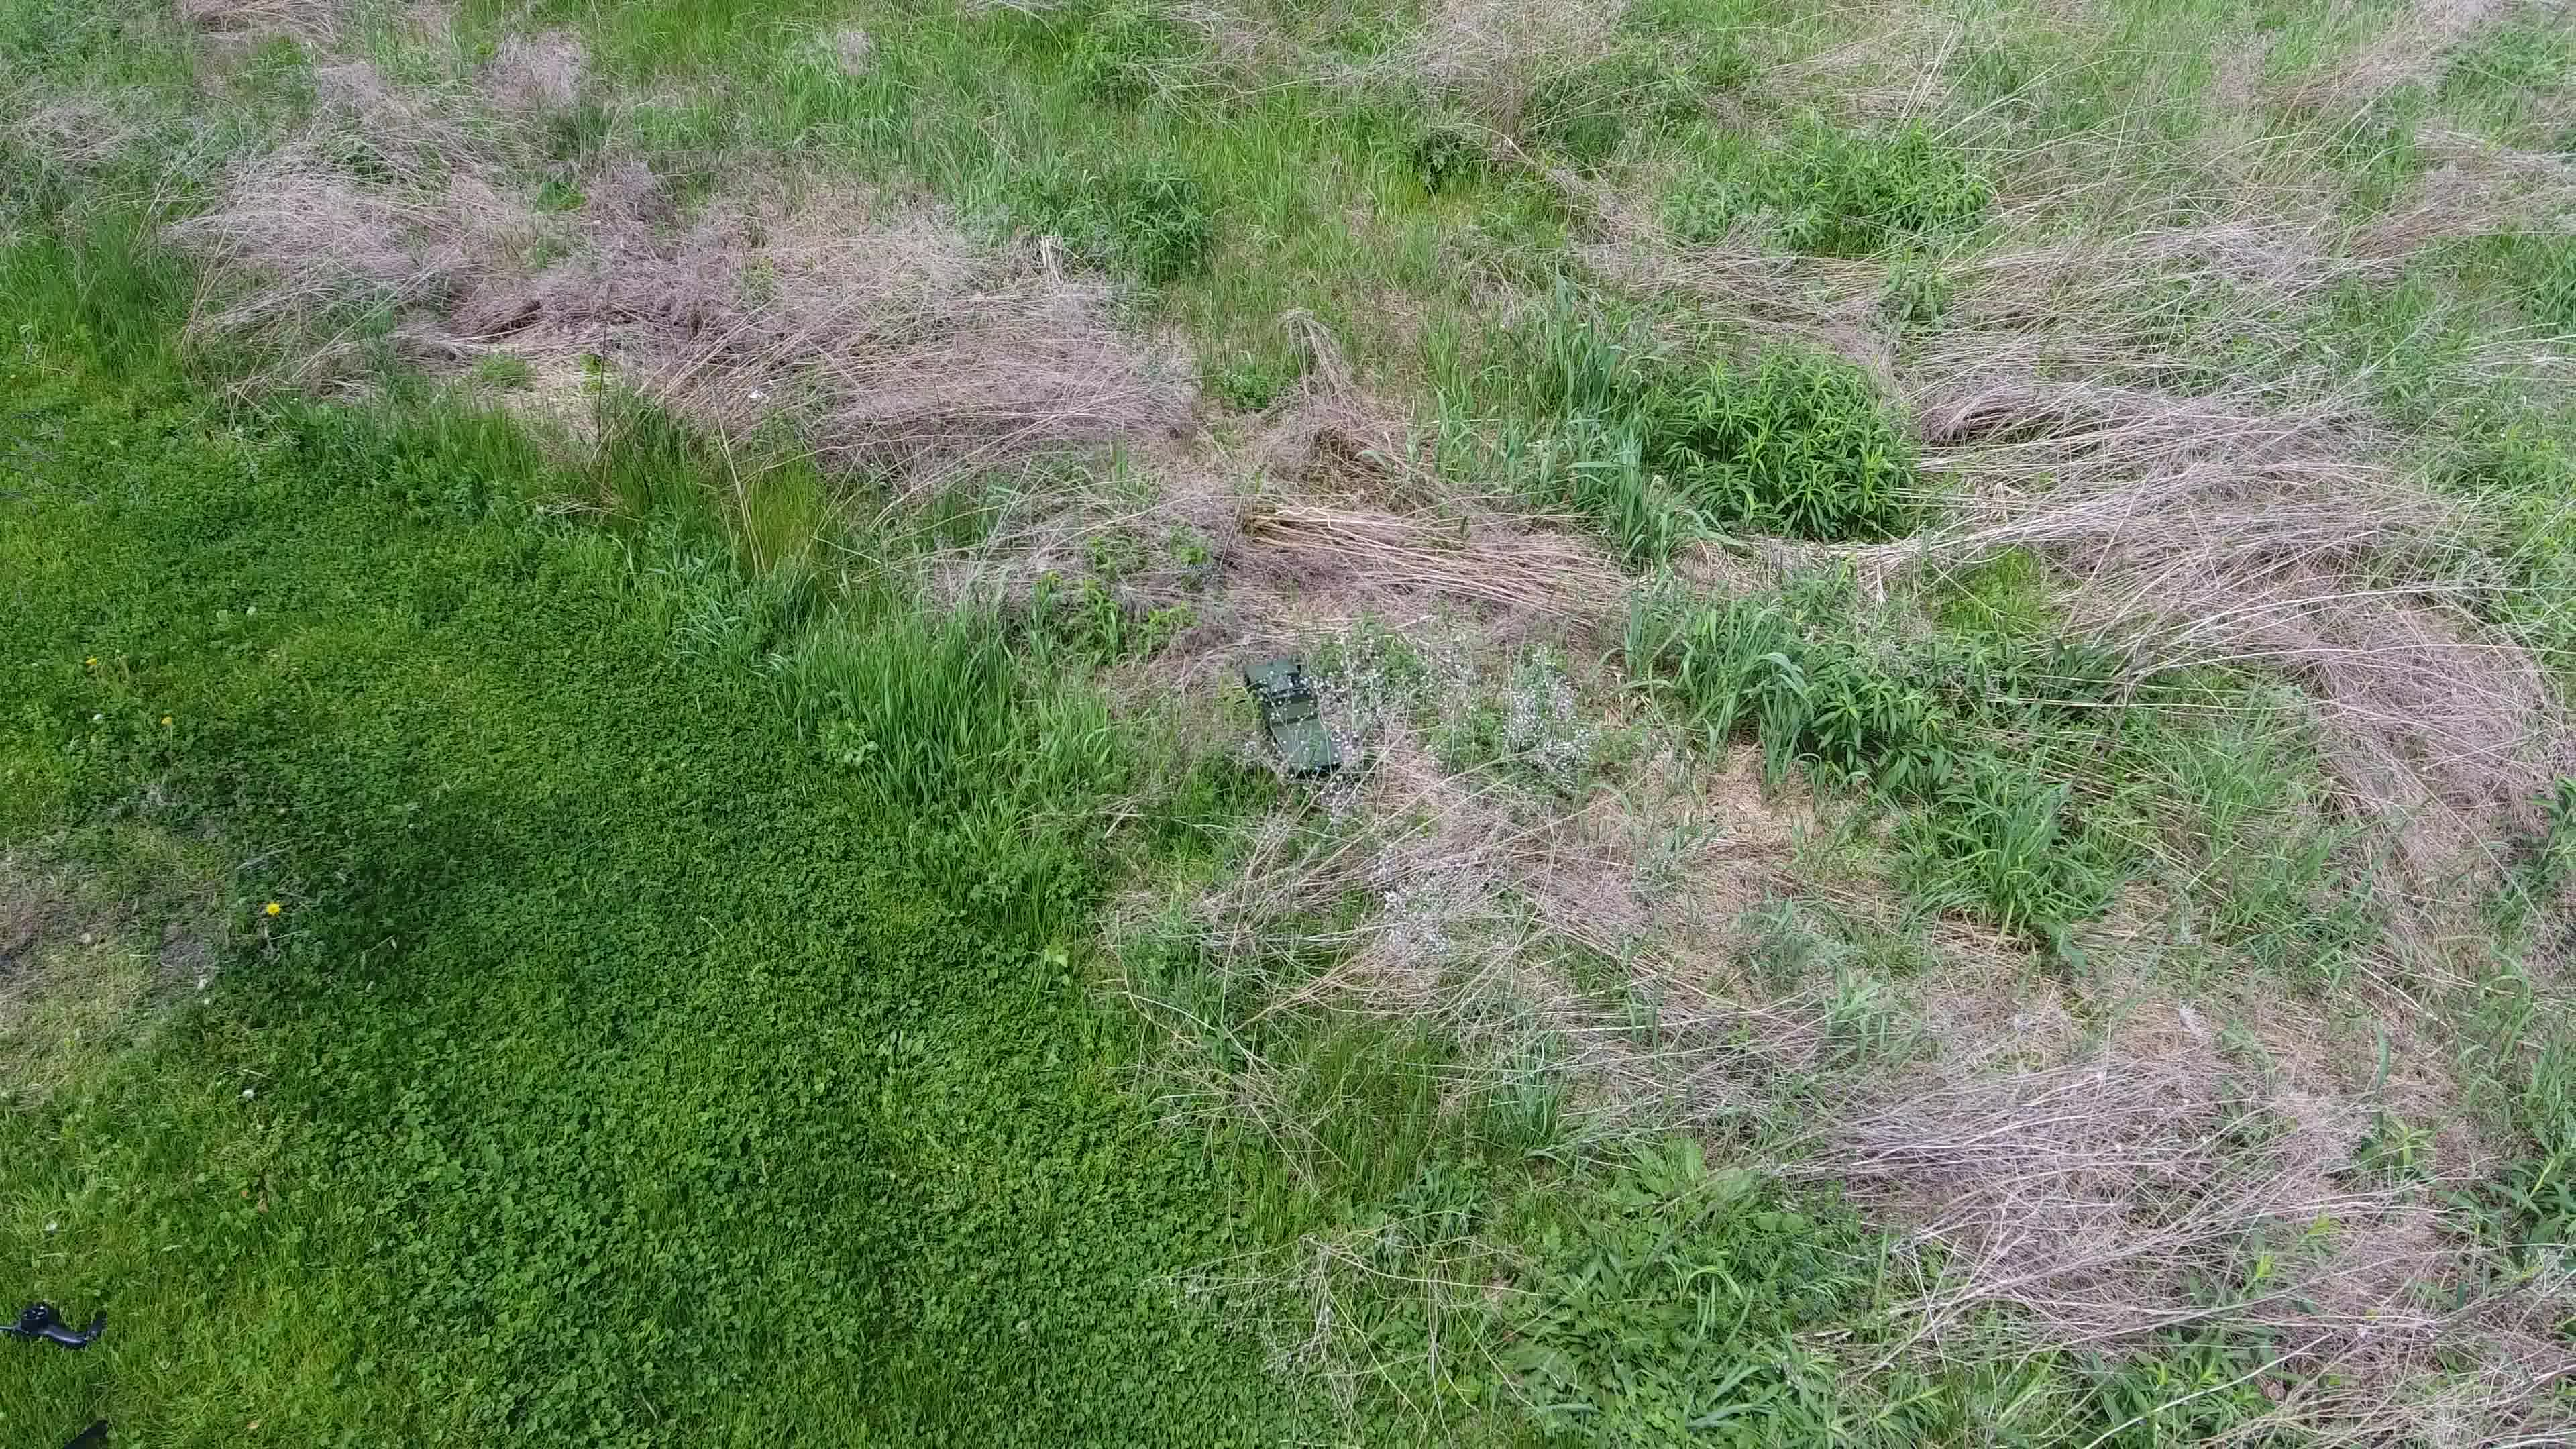transporter9: (1238, 658, 1346, 778)
